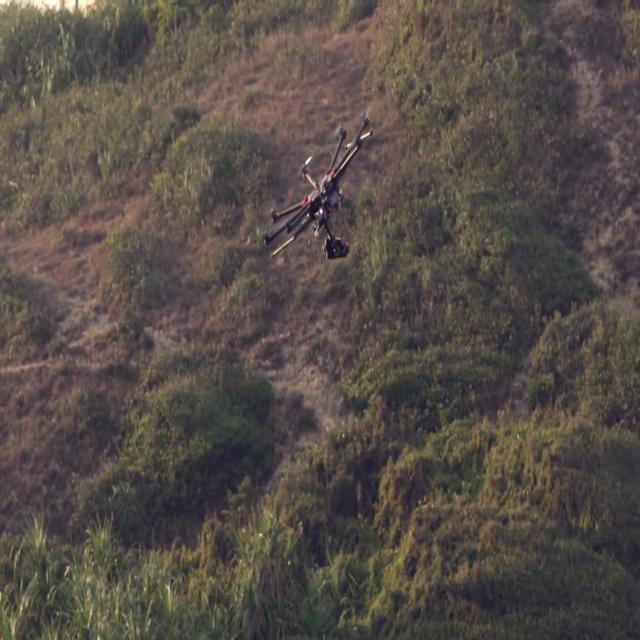drone: (258, 121, 380, 275)
